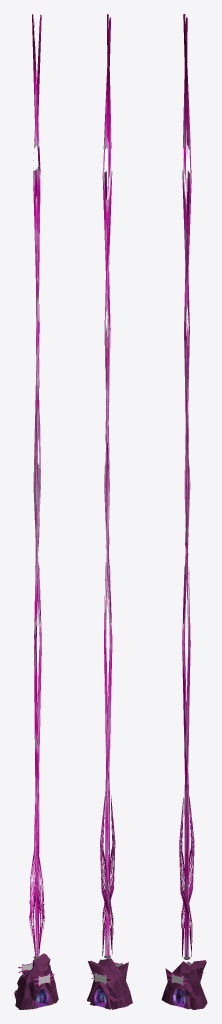
File: portal.gltf
3 views of the same model, side by side, from view 1: azimuth 30°, elevation 25°; view 2: azimuth 150°, elevation 25°; view 3: azimuth 330°, elevation 25° (orthographic).
Parts seen in each view (by area): view 1: Beam, Body, Retopo_Cube.002, IN_2; view 2: Beam, Body; view 3: Beam, Body, IN_2.
Part boxes in pixels (bbox=[...]): Beam: bbox=[29, 14, 44, 957]; Body: bbox=[14, 953, 58, 1009]; Retopo_Cube.002: bbox=[20, 963, 53, 985]; IN_2: bbox=[36, 989, 48, 1007]; Beam: bbox=[100, 14, 115, 956]; Body: bbox=[87, 958, 132, 1009]; Beam: bbox=[179, 14, 194, 957]; Body: bbox=[161, 960, 207, 1009]; IN_2: bbox=[173, 989, 185, 1007].
Bounding box in the file's own units: 49.74 × 1167 × 36.22.
Materials: 7 (5 with a texture image).
